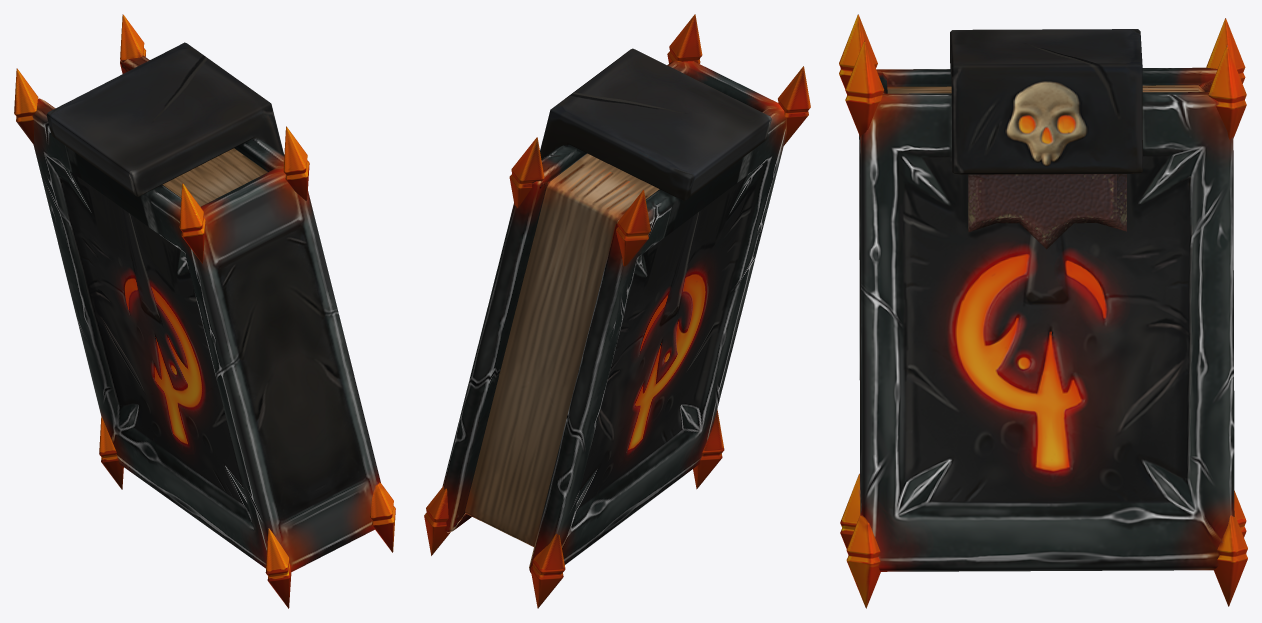
Rendered from SM_ScortchedBook.gltf.
The picture shows the model from 3 angles, left to right: view 1: azimuth 30°, elevation 25°; view 2: azimuth 150°, elevation 25°; view 3: azimuth 270°, elevation 25°; orthographic projection. The views are drawn at different scales.
Visible parts, largest first — view 1: SM_ScortchedBook; view 2: SM_ScortchedBook; view 3: SM_ScortchedBook.
Boxes of the visible parts, x1,y1,x2,y2 form: SM_ScortchedBook: (14, 14, 395, 608); SM_ScortchedBook: (424, 14, 810, 608); SM_ScortchedBook: (839, 14, 1247, 608).
Bounding box in the file's own units: 0.1995 × 0.399 × 0.2735.
1 material, 1 textured.
